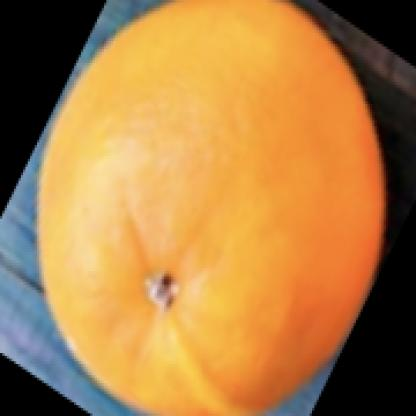fresh: (39, 1, 385, 416)
